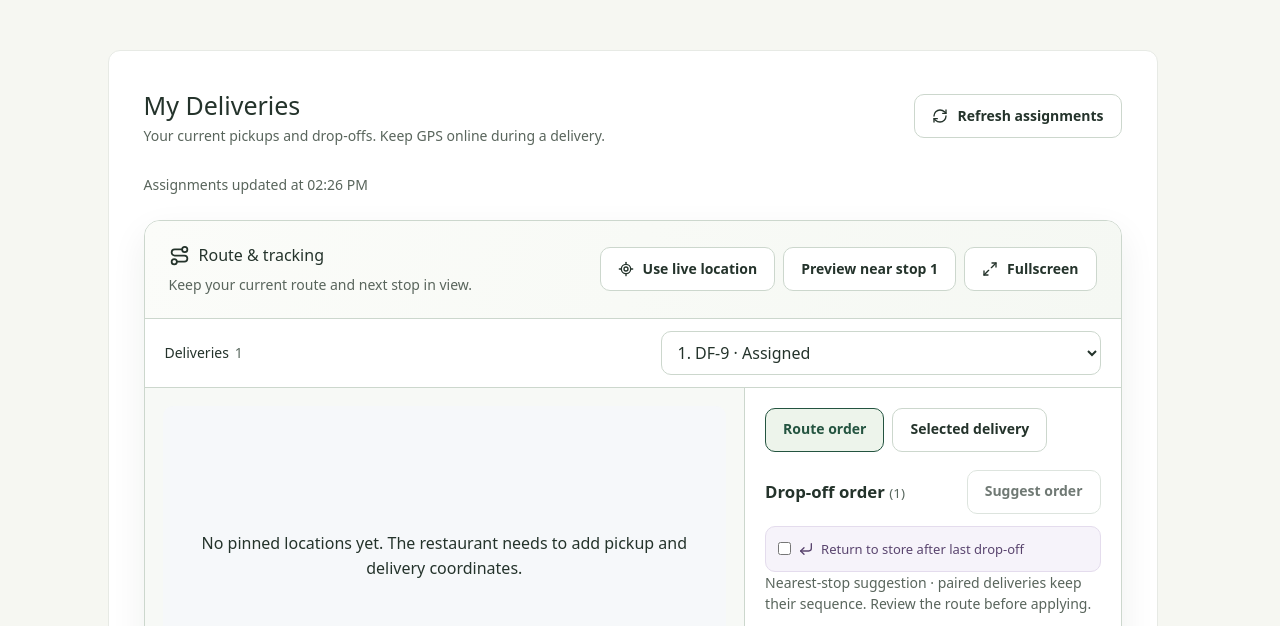
Test: keeps loaded work on refresh failure and permits a retry
The width and height of the screenshot is (1280, 626).
Step 1. Click the button "Refresh assignments" → (1018, 116), box [914,94,1122,138]
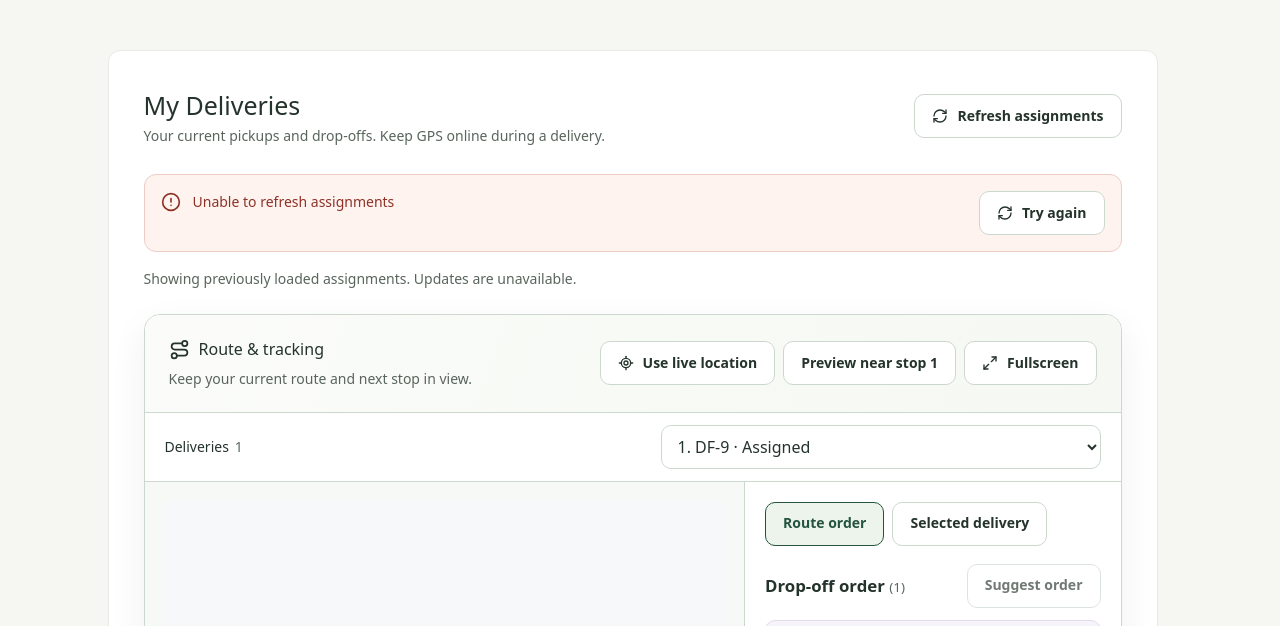
Check: the text "Unable to refresh assignments" is shown, box [192,192,394,211]
